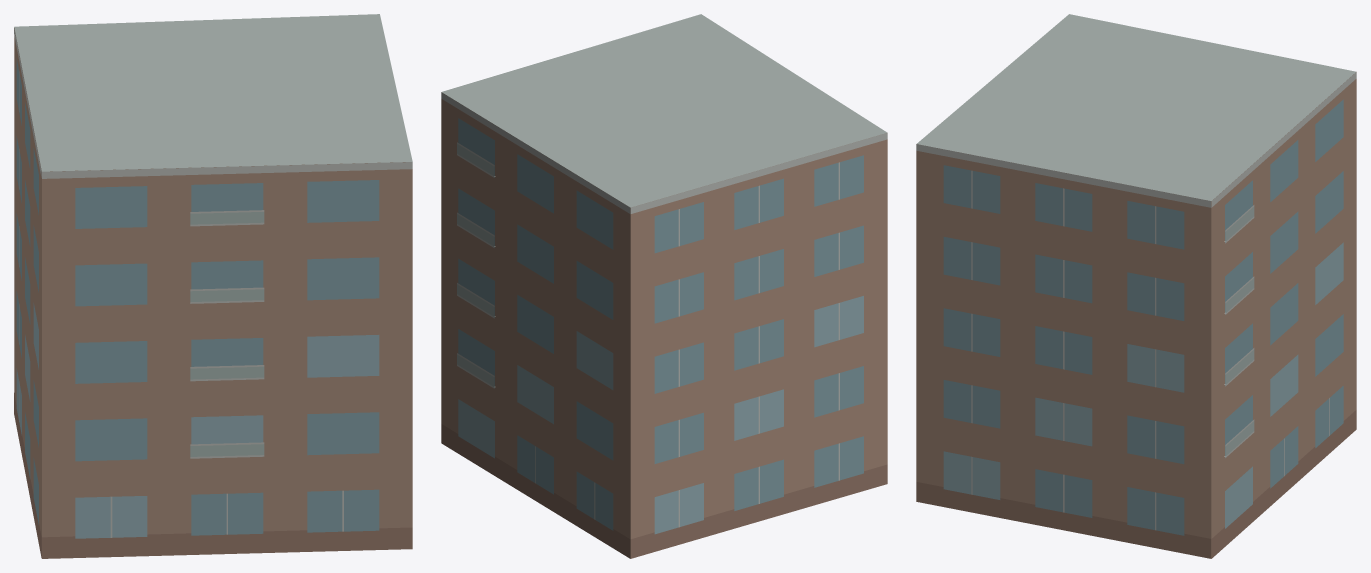
File: survey-upis-32918050.glb
3 views of the same model, side by side, from view 1: azimuth 30°, elevation 25°; view 2: azimuth 150°, elevation 25°; view 3: azimuth 270°, elevation 25° (orthographic). The views are drawn at different scales.
Parts seen in each view (by area): view 1: survey-upis-32918050.tmp; view 2: survey-upis-32918050.tmp; view 3: survey-upis-32918050.tmp.
Part boxes in pixels (<box>): survey-upis-32918050.tmp: <box>14,14,412,558</box>; survey-upis-32918050.tmp: <box>441,14,887,558</box>; survey-upis-32918050.tmp: <box>916,14,1356,558</box>.
Bounding box in the file's own units: 14.54 × 12.95 × 14.45.
